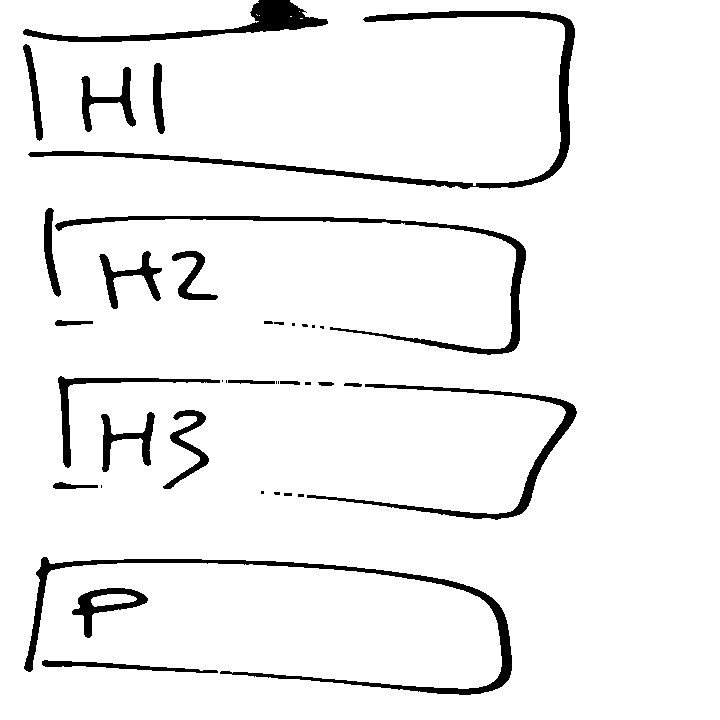heading1: (21, 10, 581, 196)
heading2: (41, 208, 530, 358)
heading3: (50, 370, 576, 534)
paragraph: (23, 551, 517, 703)
